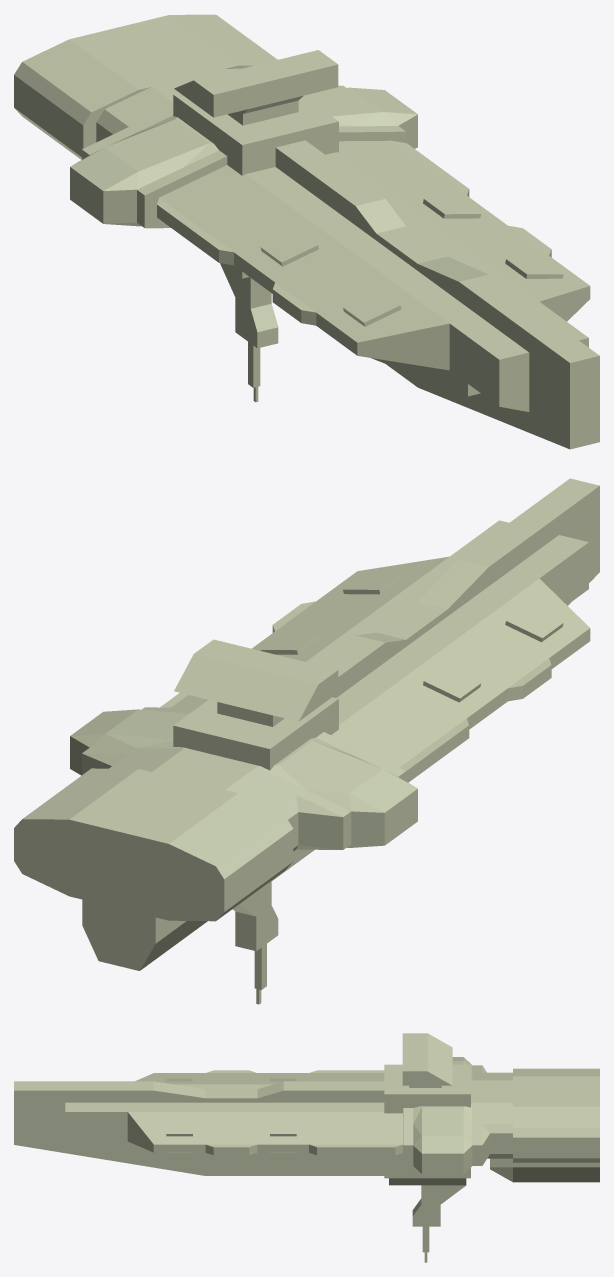
The model's file is destroyer_pheonix.obj.
The picture shows the model from 3 angles, top to bottom: view 1: azimuth 30°, elevation 25°; view 2: azimuth 150°, elevation 25°; view 3: azimuth 270°, elevation 25°; orthographic projection. The views are drawn at different scales.
Visible parts, largest first — view 1: ForwardHull_Cube.001, Engines01_Cube.003, Bridge01_Cube.004; view 2: Engines01_Cube.003, ForwardHull_Cube.001, Bridge01_Cube.004; view 3: ForwardHull_Cube.001, Engines01_Cube.003, Bridge01_Cube.004.
Boxes of the visible parts, left/top/right/bottom form: ForwardHull_Cube.001: left=157, top=140, right=599, bottom=449; Engines01_Cube.003: left=14, top=14, right=417, bottom=228; Bridge01_Cube.004: left=173, top=50, right=338, bottom=402; Engines01_Cube.003: left=14, top=707, right=417, bottom=970; ForwardHull_Cube.001: left=160, top=478, right=599, bottom=782; Bridge01_Cube.004: left=173, top=639, right=338, bottom=1004; ForwardHull_Cube.001: left=14, top=1070, right=402, bottom=1175; Engines01_Cube.003: left=403, top=1057, right=599, bottom=1182; Bridge01_Cube.004: left=384, top=1033, right=470, bottom=1262.
Size of the model in its own units: 7.43 by 7.55 by 19.05.
